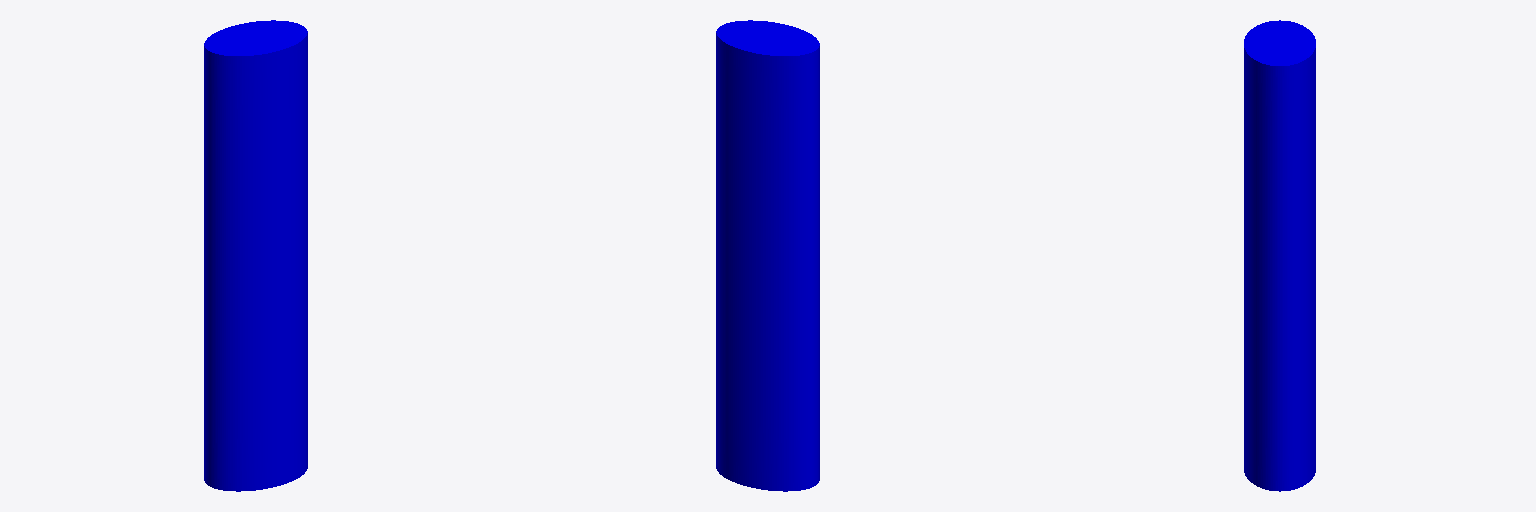
The robot description file, URDF, robot "board3_block16":
<?xml version="1.0"?>
<robot name="board3_block16">
    <link name="board3_block16">
        <visual>
            <origin xyz="0 0 0 " rpy=" 0 0 0"/>
            <geometry>
                <mesh filename="../meshes/SIMO_Board3_Block16.stl" scale="0.001 0.001 0.001"/>
            </geometry>
            <material name="red">
                <color rgba="0.0 0.0 1.0 1.0"/>
            </material>
        </visual>
        <collision>
            <origin xyz="0 0 0" rpy="0 0 0"/>
            <geometry>
                <mesh filename="../meshes/SIMO_Board3_Block16.stl" scale="0.001 0.001 0.001"/>
            </geometry>
        </collision>
    </link>
</robot>

--- What the picture shows (computed from the rendered views, not written in the file) ---
3 views of the same robot in one strip: view 1: azimuth 30°, elevation 25°; view 2: azimuth 150°, elevation 25°; view 3: azimuth 270°, elevation 25° (orthographic).
Robot: board3_block16 — 1 links, 0 joints (none); root link board3_block16; default pose: every joint at zero.
Links seen in each view (by area): view 1: board3_block16; view 2: board3_block16; view 3: board3_block16.
Link boxes in pixels (box(x1,y1,x2,y2)): board3_block16: box(204, 20, 307, 491); board3_block16: box(716, 20, 819, 491); board3_block16: box(1244, 20, 1315, 491).
Size in the robot's own frame: 0.0347 by 0.0232 by 0.15 metres.
1 mesh visuals loaded from 1 distinct referenced files (1 ASCII STL).
